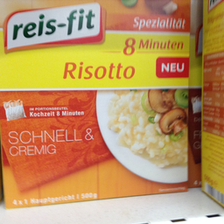rice: (1, 1, 191, 209)
